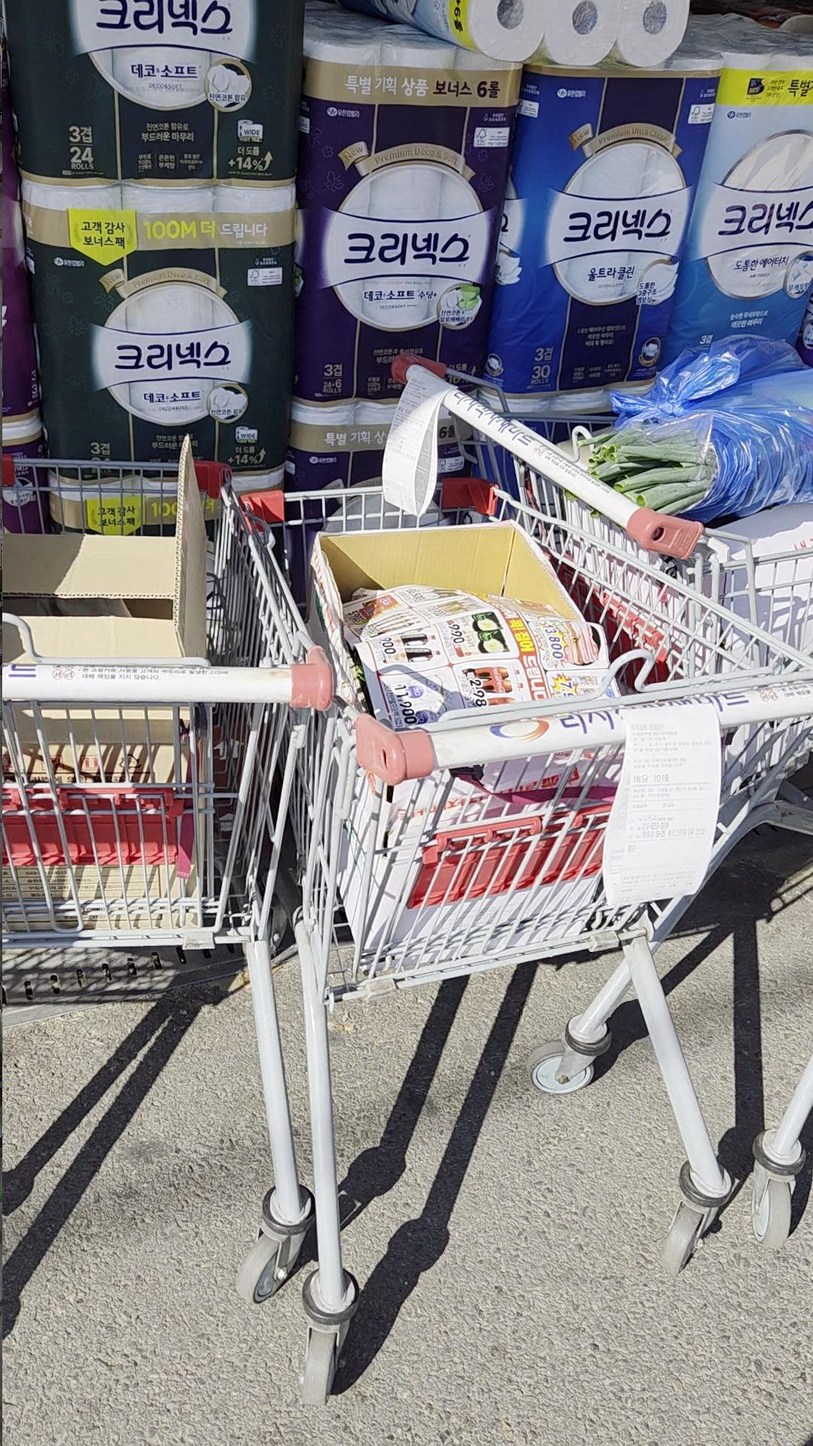fully_cart: (218, 440, 766, 1325), (2, 366, 318, 1361), (431, 355, 813, 819)
